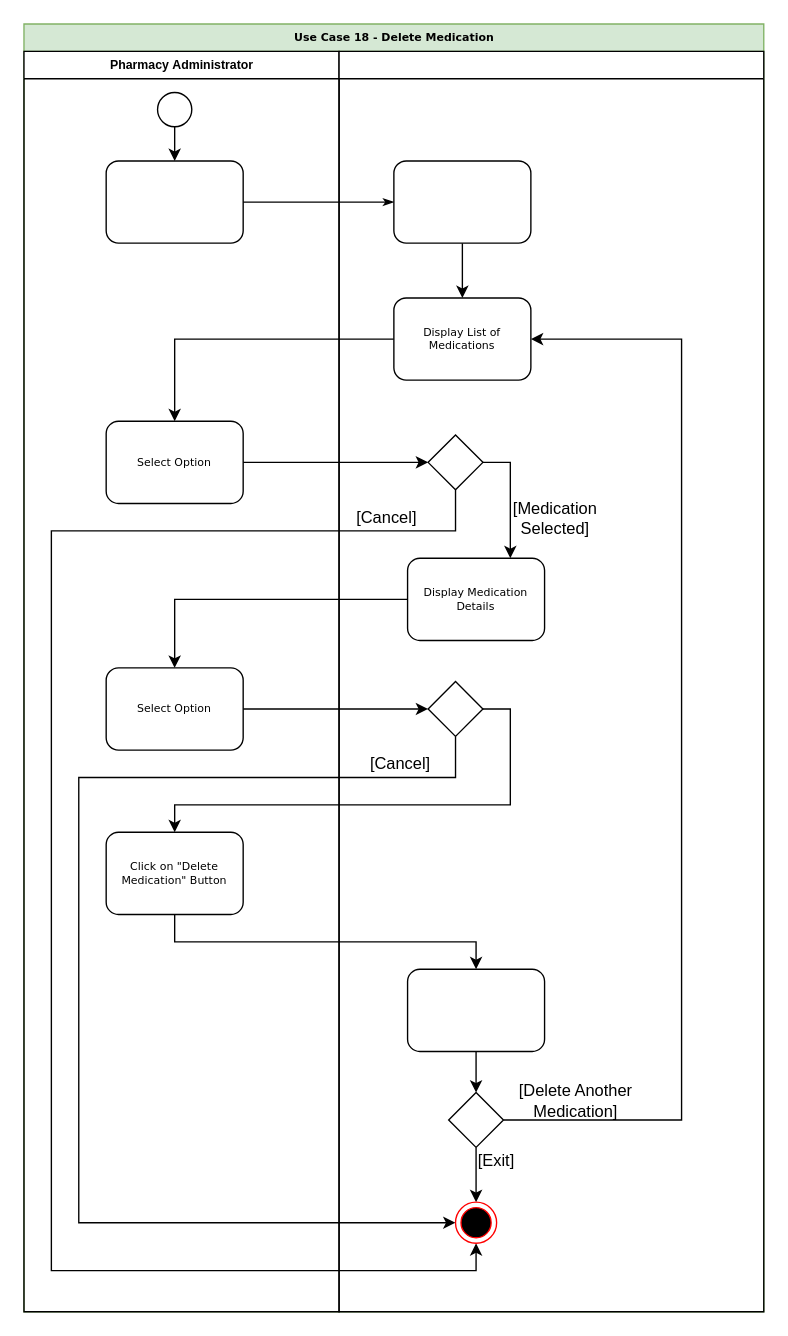
The diagram is 788 pixels wide and 1336 high, and some of its shapes have lost their labels. The box of each missing label's shape, as (x1, y1, x2, y2) in pixels:
Delete Medication: (406, 968, 545, 1051)
Display "Delete Medication" Form: (393, 160, 531, 243)
Select "Delete Medication" Form: (105, 160, 243, 243)
System: (338, 50, 764, 1312)
